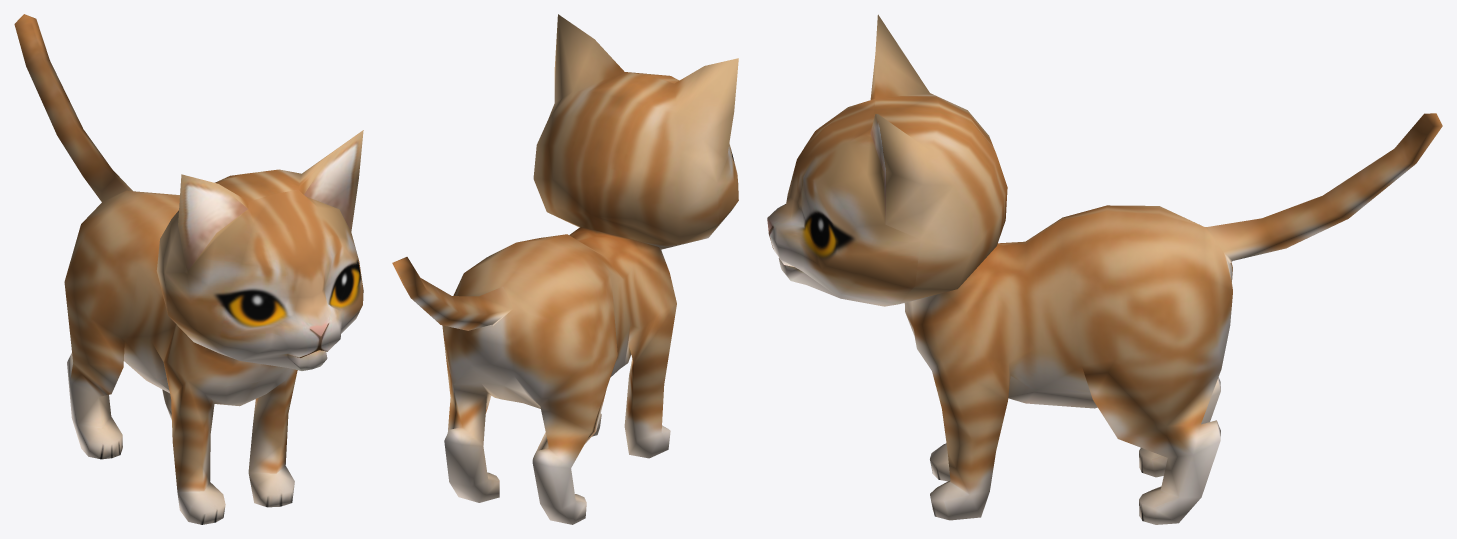
Rendered from SM_Cat.FBX.
3 renders of one model, left to right at view 1: azimuth 30°, elevation 25°; view 2: azimuth 150°, elevation 25°; view 3: azimuth 270°, elevation 25°, orthographic. The views are drawn at different scales.
Visible parts, largest first — view 1: SM_Cat; view 2: SM_Cat; view 3: SM_Cat.
Part boxes in pixels (<box>): SM_Cat: <box>14,14,363,524</box>; SM_Cat: <box>392,14,738,524</box>; SM_Cat: <box>767,14,1442,524</box>.
Size of what is drawn, in the model's own units: 11.38 by 32.5 by 22.71.
